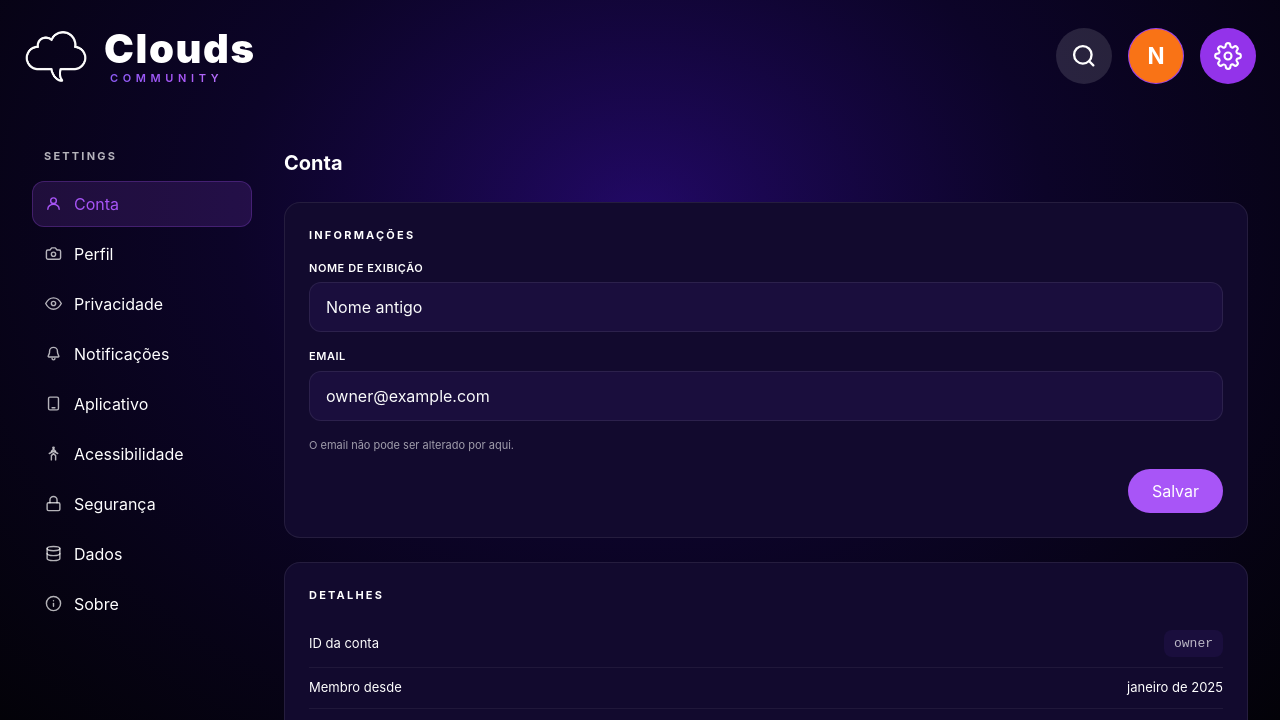
it: profile name updates › updates the session from account settings and ignores an older refresh
Replace the text in the field showing "Nome antigo" below "Nome de exibição" with "Nome novo" at (766, 307), box [309,282,1223,332]
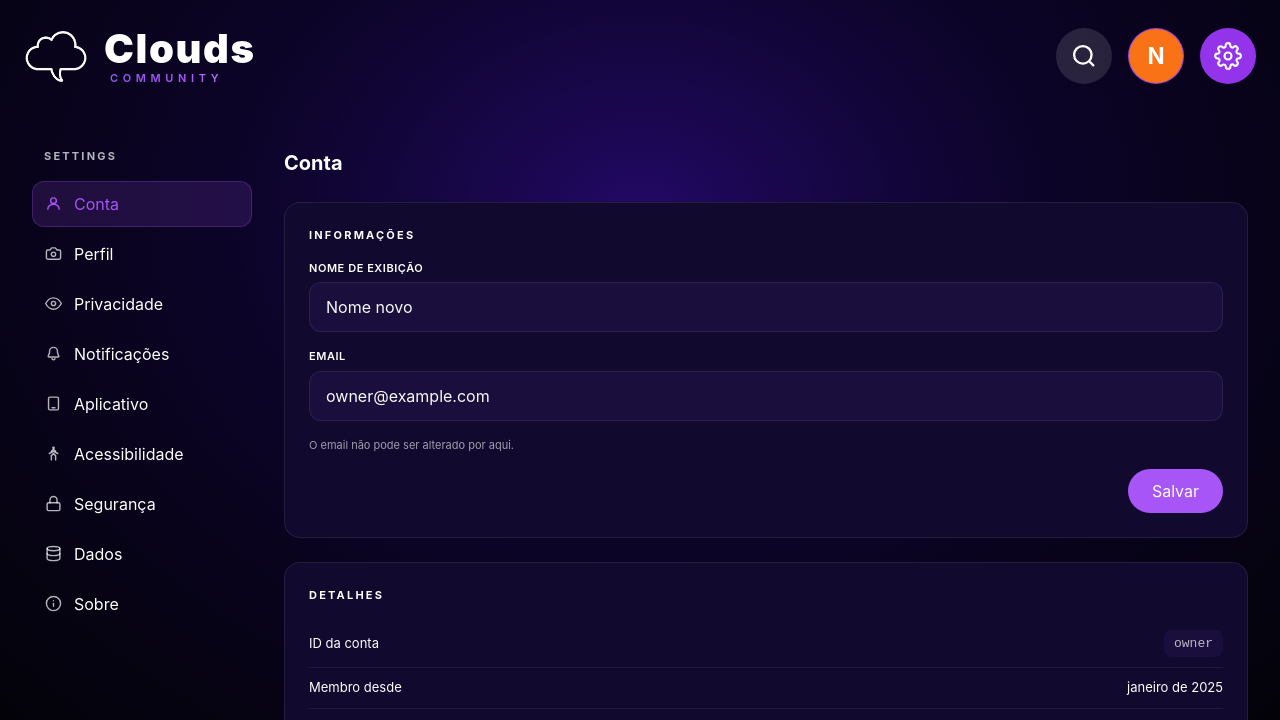
Click the button "Salvar" at (1175, 491), box [1128,469,1223,513]
(page scrolled)
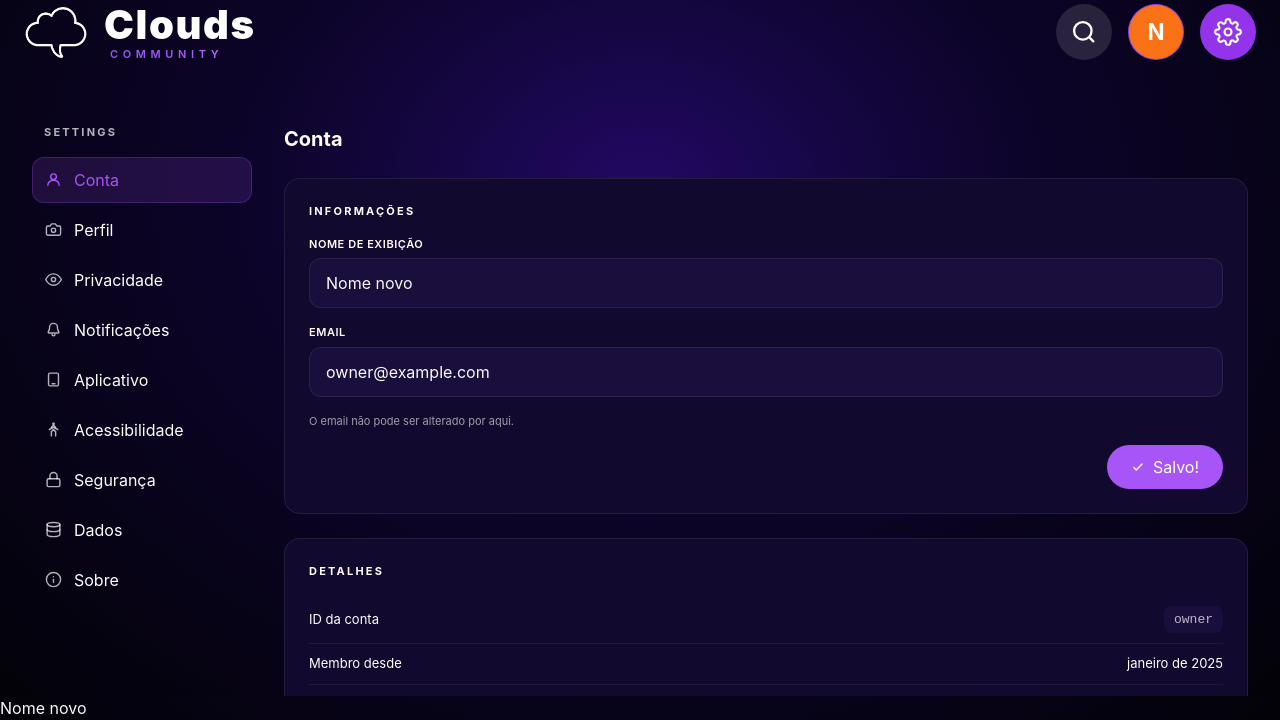
Now the text with test id "current-name" reads "Nome novo", box [0,698,86,718]
